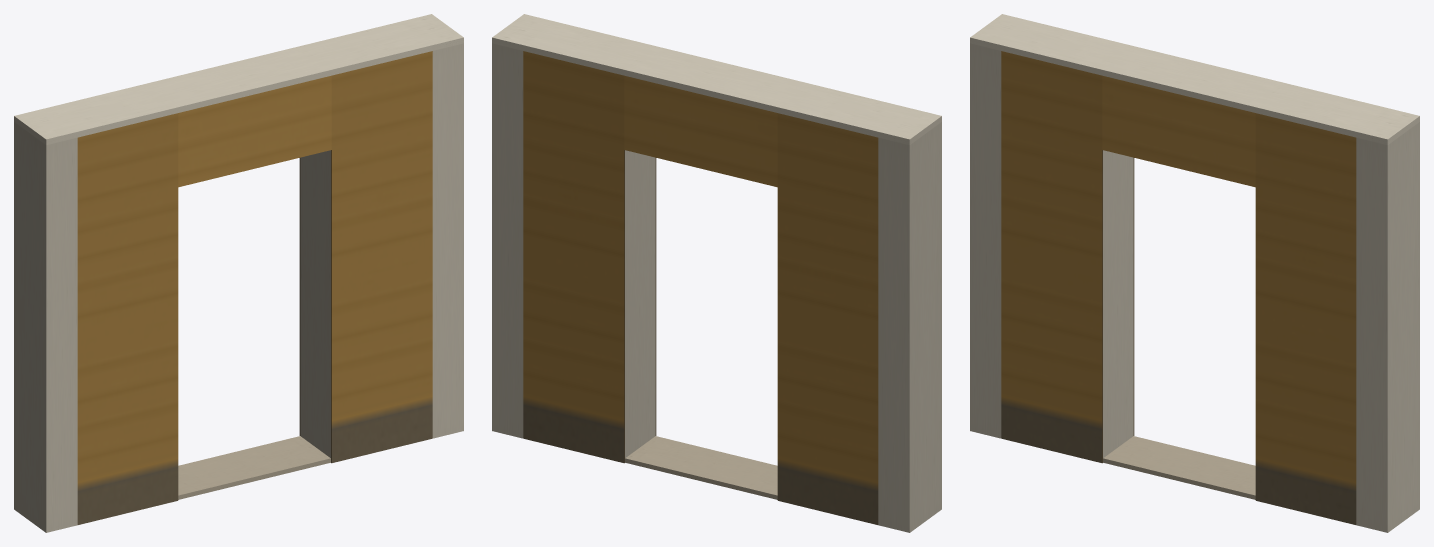
The model's file is house_03_wall_doorway.glb.
The picture shows the model from 3 angles, left to right: view 1: azimuth 30°, elevation 25°; view 2: azimuth 150°, elevation 25°; view 3: azimuth 330°, elevation 25°; orthographic projection.
Parts seen in each view (by area): view 1: outdoor_house_03_wall_doorway; view 2: outdoor_house_03_wall_doorway; view 3: outdoor_house_03_wall_doorway.
Boxes of the visible parts, left/top/right/bottom form: outdoor_house_03_wall_doorway: left=14, top=14, right=463, bottom=532; outdoor_house_03_wall_doorway: left=492, top=14, right=941, bottom=532; outdoor_house_03_wall_doorway: left=970, top=14, right=1419, bottom=532.
Size of the model in its own units: 3 by 2.7 by 0.4.
1 material, 1 textured.
